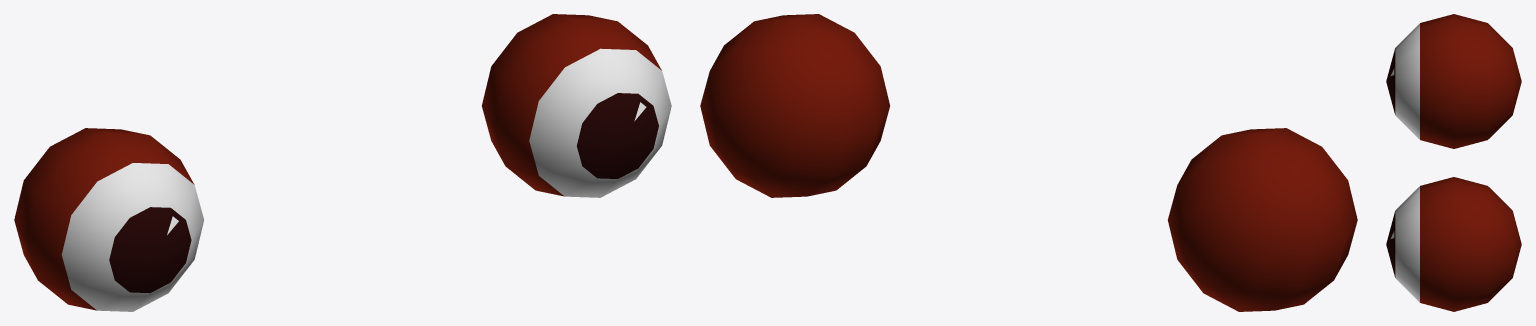
Rendered from Eyes_Biclop.glb.
The picture shows the model from 3 angles, left to right: view 1: azimuth 30°, elevation 25°; view 2: azimuth 150°, elevation 25°; view 3: azimuth 270°, elevation 25°; orthographic projection. The views are drawn at different scales.
Visible parts, largest first — view 1: Eyes_Biclop; view 2: Eyes_Biclop; view 3: Eyes_Biclop.
Part boxes in pixels (x1,y1,x2,y2): Eyes_Biclop: (14,14,671,311); Eyes_Biclop: (700,14,1357,311); Eyes_Biclop: (1386,14,1521,311).
Size of the model in its own units: 0.5341 by 0.1391 by 0.1391.
1 material, 1 textured.
